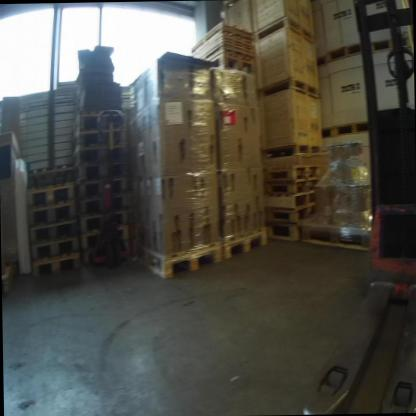pallet: (128, 234, 225, 283), (301, 212, 380, 256), (221, 222, 267, 266), (260, 185, 323, 217), (253, 16, 319, 46), (18, 162, 76, 194), (76, 155, 128, 187), (68, 128, 125, 157), (31, 233, 80, 265), (79, 193, 129, 222), (29, 202, 77, 232), (204, 49, 253, 78), (82, 224, 134, 250), (30, 214, 78, 241), (32, 252, 83, 277), (267, 219, 313, 246), (70, 114, 123, 137), (261, 204, 319, 225), (265, 164, 321, 185), (22, 185, 75, 207), (267, 143, 320, 165), (82, 247, 130, 271), (82, 206, 134, 228), (262, 177, 321, 196), (362, 33, 412, 54), (259, 81, 320, 98), (73, 143, 122, 164), (78, 177, 127, 198), (335, 116, 372, 140), (325, 42, 361, 64), (3, 260, 17, 299), (316, 127, 337, 147)
pallet_truck: (78, 103, 132, 268)
